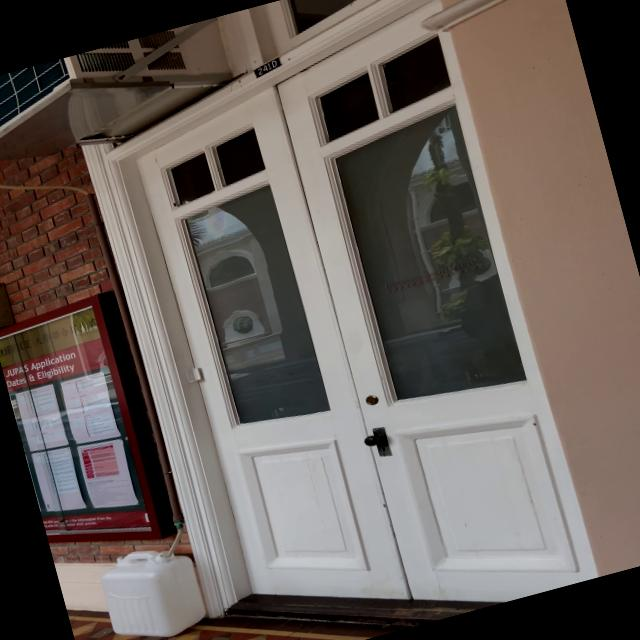room241d: (247, 54, 285, 80)
